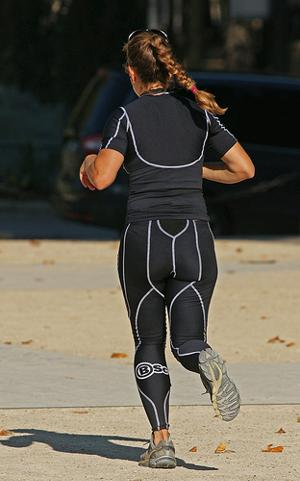person: (81, 24, 258, 468)
